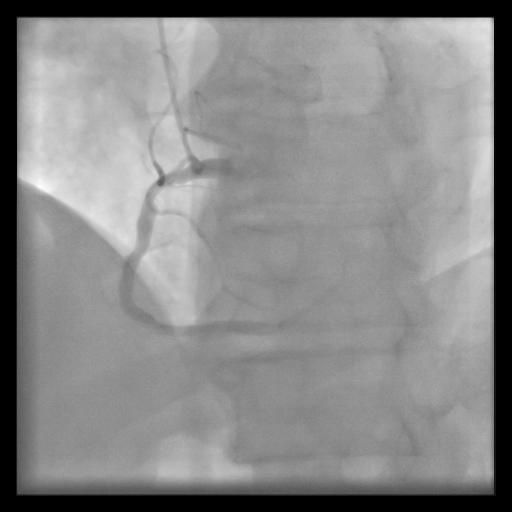Stenosis: (145, 173, 174, 195)
